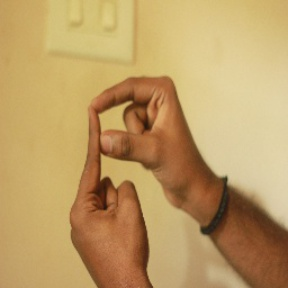P: (63, 62, 185, 228)
